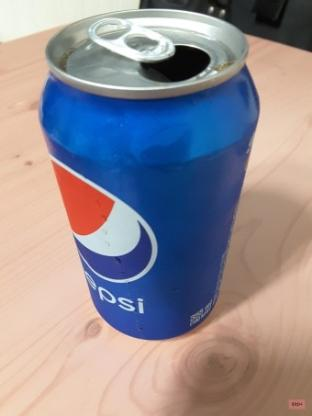Can: (40, 6, 260, 342)
